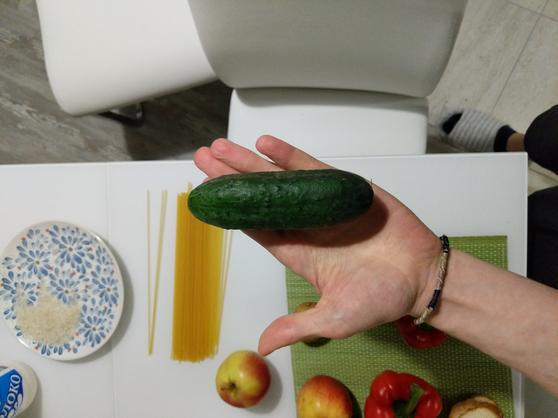cucumber: (181, 163, 379, 245)
rice: (14, 282, 84, 349)
spaghetti: (166, 224, 228, 367)
